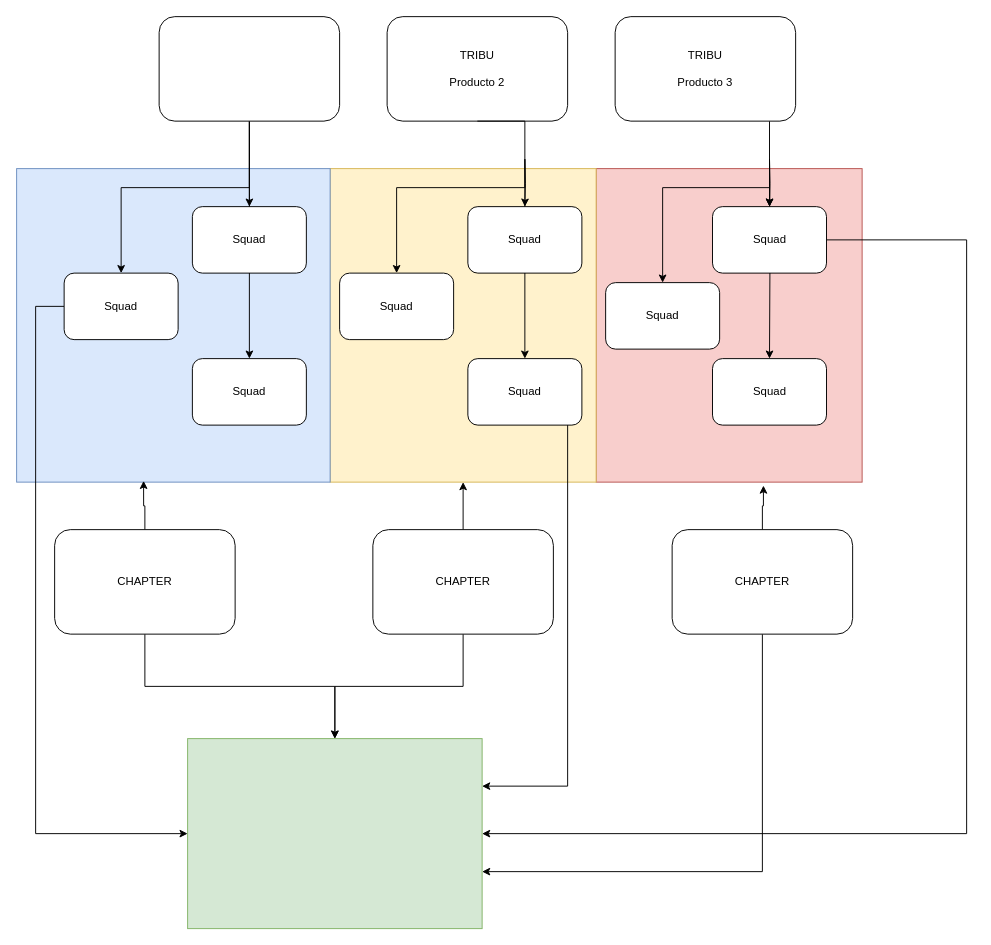
Some shapes in this 991 by 945 pixel diagram are drawn without their labels. Here are the shapes that lost their labels. From the top down, the box of each, then its label:
(158, 16, 340, 121): TRIBU Producto 1
(187, 738, 482, 929): GREMIO Diversidad de competencias
